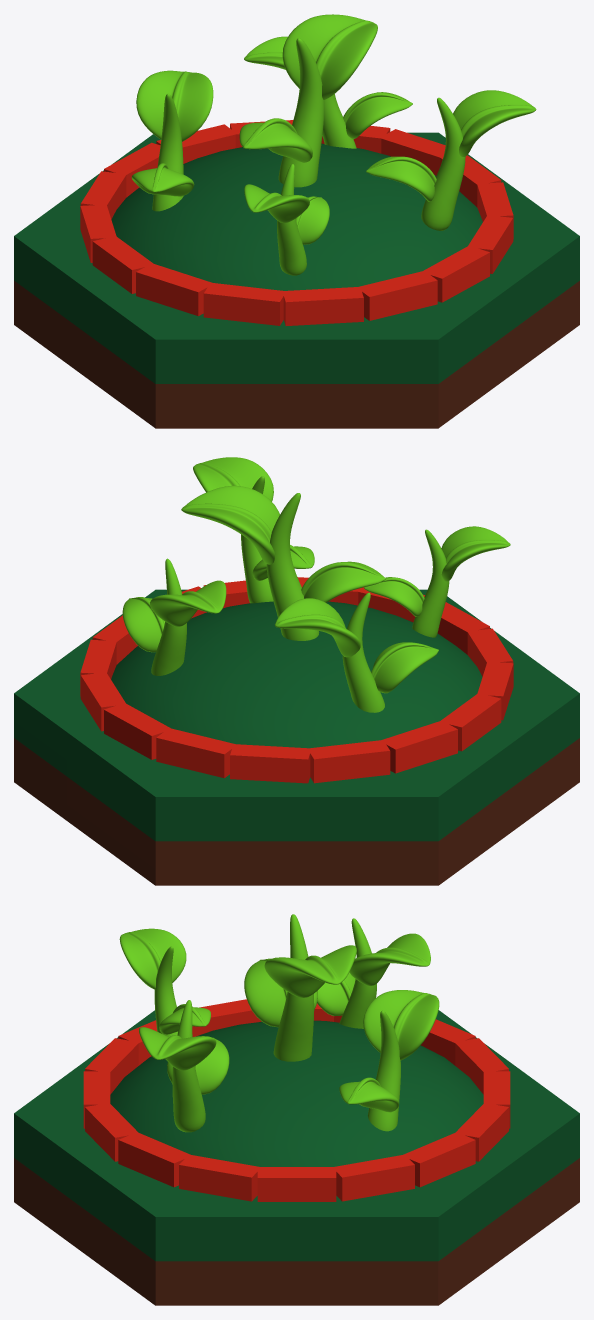
File: SM_Flower_1.FBX
3 views of the same model, one above another, from view 1: azimuth 30°, elevation 25°; view 2: azimuth 150°, elevation 25°; view 3: azimuth 270°, elevation 25° (orthographic).
Visible parts, largest first — view 1: SM_Flower_1; view 2: SM_Flower_1; view 3: SM_Flower_1.
Part boxes in pixels (x1,y1,x2,y2): SM_Flower_1: (14, 14, 579, 428); SM_Flower_1: (14, 457, 579, 885); SM_Flower_1: (14, 914, 579, 1305).
Bounding box in the file's own units: 100 × 115 × 64.79.
